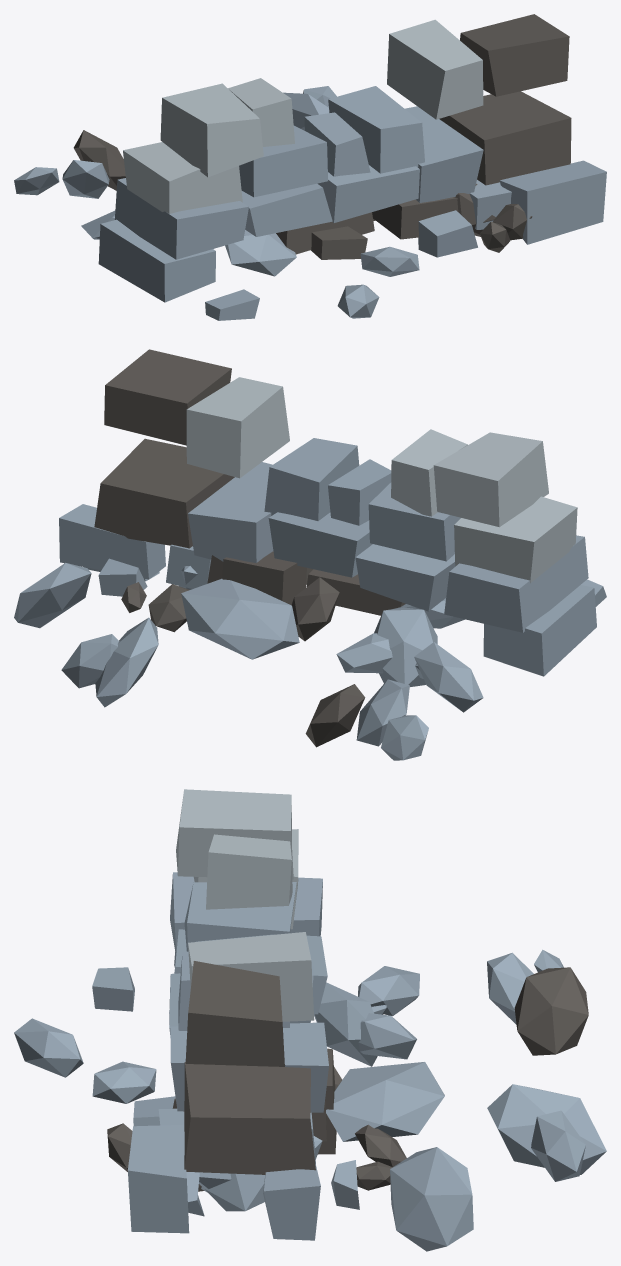
The model's file is broken_parapet.glb.
The picture shows the model from 3 angles, top to bottom: view 1: azimuth 30°, elevation 25°; view 2: azimuth 150°, elevation 25°; view 3: azimuth 270°, elevation 25°; orthographic projection. The views are drawn at different scales.
Parts seen in each view (by area): view 1: foundation row 1 weathered stone.004, broken parapet course 1.002, broken parapet course 1, broken parapet course 1.003, dislodged block 02, foundation row 1 weathered stone, broken parapet course 0, foundation row 0 weathered stone, broken parapet course 0.003, foundation row 1 weathered stone.003, broken parapet course 0.001, foundation row 1 weathered stone.002 (+19 smaller); view 2: foundation row 1 weathered stone.004, broken parapet course 1, broken parapet course 1.002, broken parapet course 1.003, foundation row 1 weathered stone, broken parapet course 0, masonry grit_stone_13, foundation row 1 weathered stone.003, foundation row 0 weathered stone, broken parapet course 0.003, foundation row 1 weathered stone.002, foundation row 1 weathered stone.001 (+20 smaller); view 3: foundation row 1 weathered stone.004, broken parapet course 1.003, masonry grit_stone_22, masonry grit_stone_13, broken parapet course 1, dislodged block 02, broken parapet course 1.001, broken parapet course 1.002, masonry grit_stone_06, masonry grit_stone_17, broken parapet course 0.001, foundation row 1 weathered stone.003 (+20 smaller).
Part boxes in pixels (x1=…): foundation row 1 weathered stone.004: x1=439, y1=91, x2=571, y2=185; broken parapet course 1.002: x1=387, y1=19, x2=483, y2=119; broken parapet course 1: x1=160, y1=83, x2=263, y2=177; broken parapet course 1.003: x1=460, y1=14, x2=569, y2=96; dislodged block 02: x1=499, y1=160, x2=606, y2=244; foundation row 1 weathered stone: x1=114, y1=178, x2=248, y2=259; broken parapet course 0: x1=123, y1=142, x2=242, y2=213; foundation row 0 weathered stone: x1=98, y1=219, x2=215, y2=302; broken parapet course 0.003: x1=328, y1=86, x2=424, y2=173; foundation row 1 weathered stone.003: x1=405, y1=106, x2=483, y2=202; broken parapet course 0.001: x1=239, y1=125, x2=327, y2=197; foundation row 1 weathered stone.002: x1=317, y1=165, x2=419, y2=222; foundation row 1 weathered stone.004: x1=94, y1=438, x2=234, y2=548; broken parapet course 1: x1=433, y1=432, x2=548, y2=527; broken parapet course 1.002: x1=186, y1=377, x2=289, y2=478; broken parapet course 1.003: x1=104, y1=349, x2=231, y2=445; foundation row 1 weathered stone: x1=444, y1=535, x2=588, y2=632; broken parapet course 0: x1=454, y1=496, x2=577, y2=583; masonry grit_stone_13: x1=181, y1=578, x2=299, y2=659; foundation row 1 weathered stone.003: x1=188, y1=462, x2=273, y2=562; foundation row 0 weathered stone: x1=483, y1=585, x2=596, y2=676; broken parapet course 0.003: x1=264, y1=438, x2=359, y2=520; foundation row 1 weathered stone.002: x1=268, y1=512, x2=372, y2=577; foundation row 1 weathered stone.001: x1=355, y1=544, x2=455, y2=611; foundation row 1 weathered stone.004: x1=184, y1=1062, x2=315, y2=1174; broken parapet course 1.003: x1=185, y1=961, x2=284, y2=1066; masonry grit_stone_22: x1=390, y1=1147, x2=473, y2=1251; masonry grit_stone_13: x1=326, y1=1062, x2=444, y2=1141; broken parapet course 1: x1=176, y1=789, x2=293, y2=879; dislodged block 02: x1=128, y1=1124, x2=189, y2=1233; broken parapet course 1.001: x1=206, y1=834, x2=292, y2=909; broken parapet course 1.002: x1=188, y1=932, x2=314, y2=1021; masonry grit_stone_06: x1=514, y1=967, x2=588, y2=1055; masonry grit_stone_17: x1=487, y1=1084, x2=606, y2=1174; broken parapet course 0.001: x1=184, y1=882, x2=296, y2=951; foundation row 1 weathered stone.003: x1=170, y1=1022, x2=328, y2=1112.
Size of the model in its own units: 3.55 by 1.45 by 3.26.
